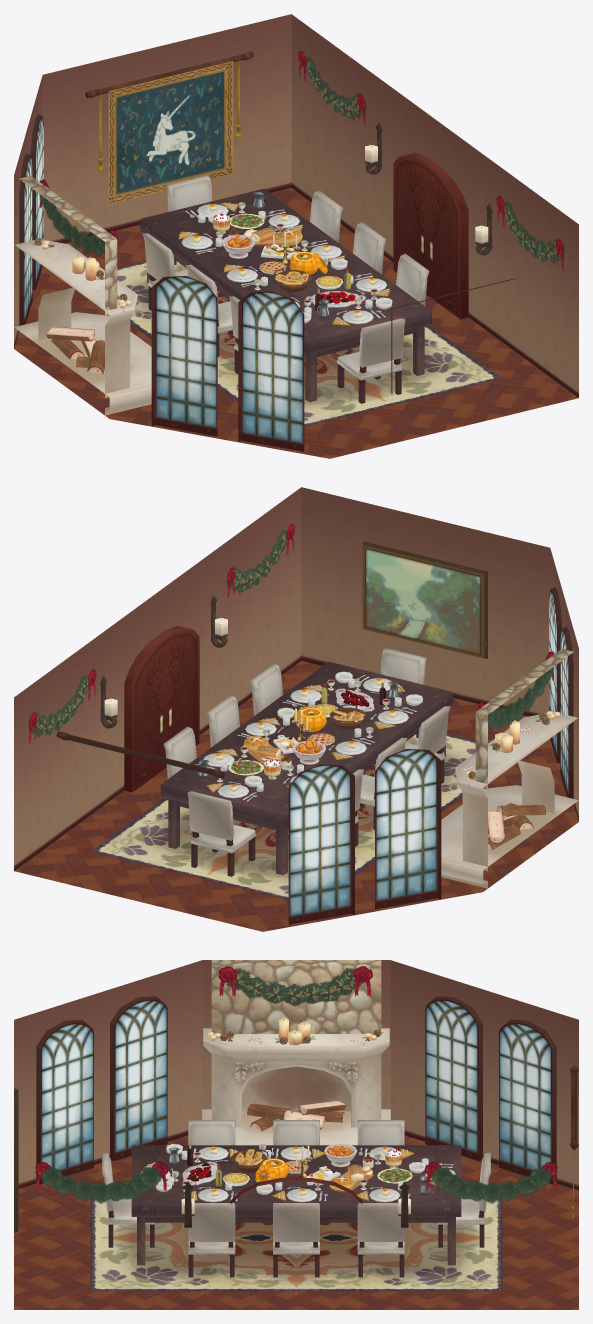
The picture shows the model from 3 angles, top to bottom: view 1: azimuth 30°, elevation 25°; view 2: azimuth 150°, elevation 25°; view 3: azimuth 270°, elevation 25°; orthographic projection.
Visible parts, largest first — view 1: Plane.001, Floor+room, Cylinder.004, Table, Fireplace, Rug, Cube.012, Cube.013, Door, Cube.002, Cube.011, Cube.010 (+14 smaller); view 2: Plane.001, Floor+room, Table, Fireplace, Plane, Rug, Cube.011, Cube.010, Door, Cube.001, Cube.012, Cube.013 (+18 smaller); view 3: Plane.001, Floor+room, Fireplace, Rug, Table, Cube.011, Cube.012, Cube.013, Cube.010, Circle.002, Circle.001, Circle (+18 smaller).
Part boxes in pixels (left/top/right/bottom): Plane.001: left=14, top=14, right=578, bottom=397; Floor+room: left=14, top=188, right=578, bottom=458; Cylinder.004: left=85, top=51, right=253, bottom=203; Table: left=140, top=188, right=431, bottom=402; Fireplace: left=14, top=176, right=151, bottom=415; Rug: left=117, top=261, right=501, bottom=426; Cube.012: left=151, top=276, right=217, bottom=436; Cube.013: left=238, top=291, right=304, bottom=451; Door: left=393, top=152, right=468, bottom=319; Cube.002: left=337, top=318, right=405, bottom=403; Cube.011: left=19, top=153, right=32, bottom=325; Cube.010: left=30, top=114, right=43, bottom=289; Plane.001: left=14, top=487, right=578, bottom=870; Floor+room: left=14, top=661, right=578, bottom=931; Table: left=161, top=661, right=452, bottom=875; Fireplace: left=441, top=649, right=578, bottom=888; Plane: left=362, top=541, right=487, bottom=658; Rug: left=91, top=734, right=475, bottom=899; Cube.011: left=375, top=749, right=441, bottom=909; Cube.010: left=288, top=764, right=354, bottom=924; Door: left=124, top=625, right=199, bottom=792; Cube.001: left=187, top=791, right=255, bottom=876; Cube.012: left=560, top=626, right=573, bottom=798; Cube.013: left=549, top=587, right=561, bottom=763; Plane.001: left=14, top=960, right=578, bottom=1190; Floor+room: left=14, top=1135, right=578, bottom=1309; Fireplace: left=202, top=960, right=390, bottom=1145; Rug: left=90, top=1184, right=502, bottom=1291; Table: left=131, top=1145, right=461, bottom=1265; Cube.011: left=425, top=996, right=482, bottom=1160; Cube.012: left=110, top=996, right=167, bottom=1160; Cube.013: left=36, top=1019, right=93, bottom=1184; Cube.010: left=499, top=1019, right=556, bottom=1184; Circle.002: left=218, top=966, right=372, bottom=1006; Circle.001: left=424, top=1161, right=557, bottom=1203; Circle: left=35, top=1161, right=168, bottom=1203.
Size of the model in its own units: 9 by 4.09 by 12.
36 materials, 36 textured.
